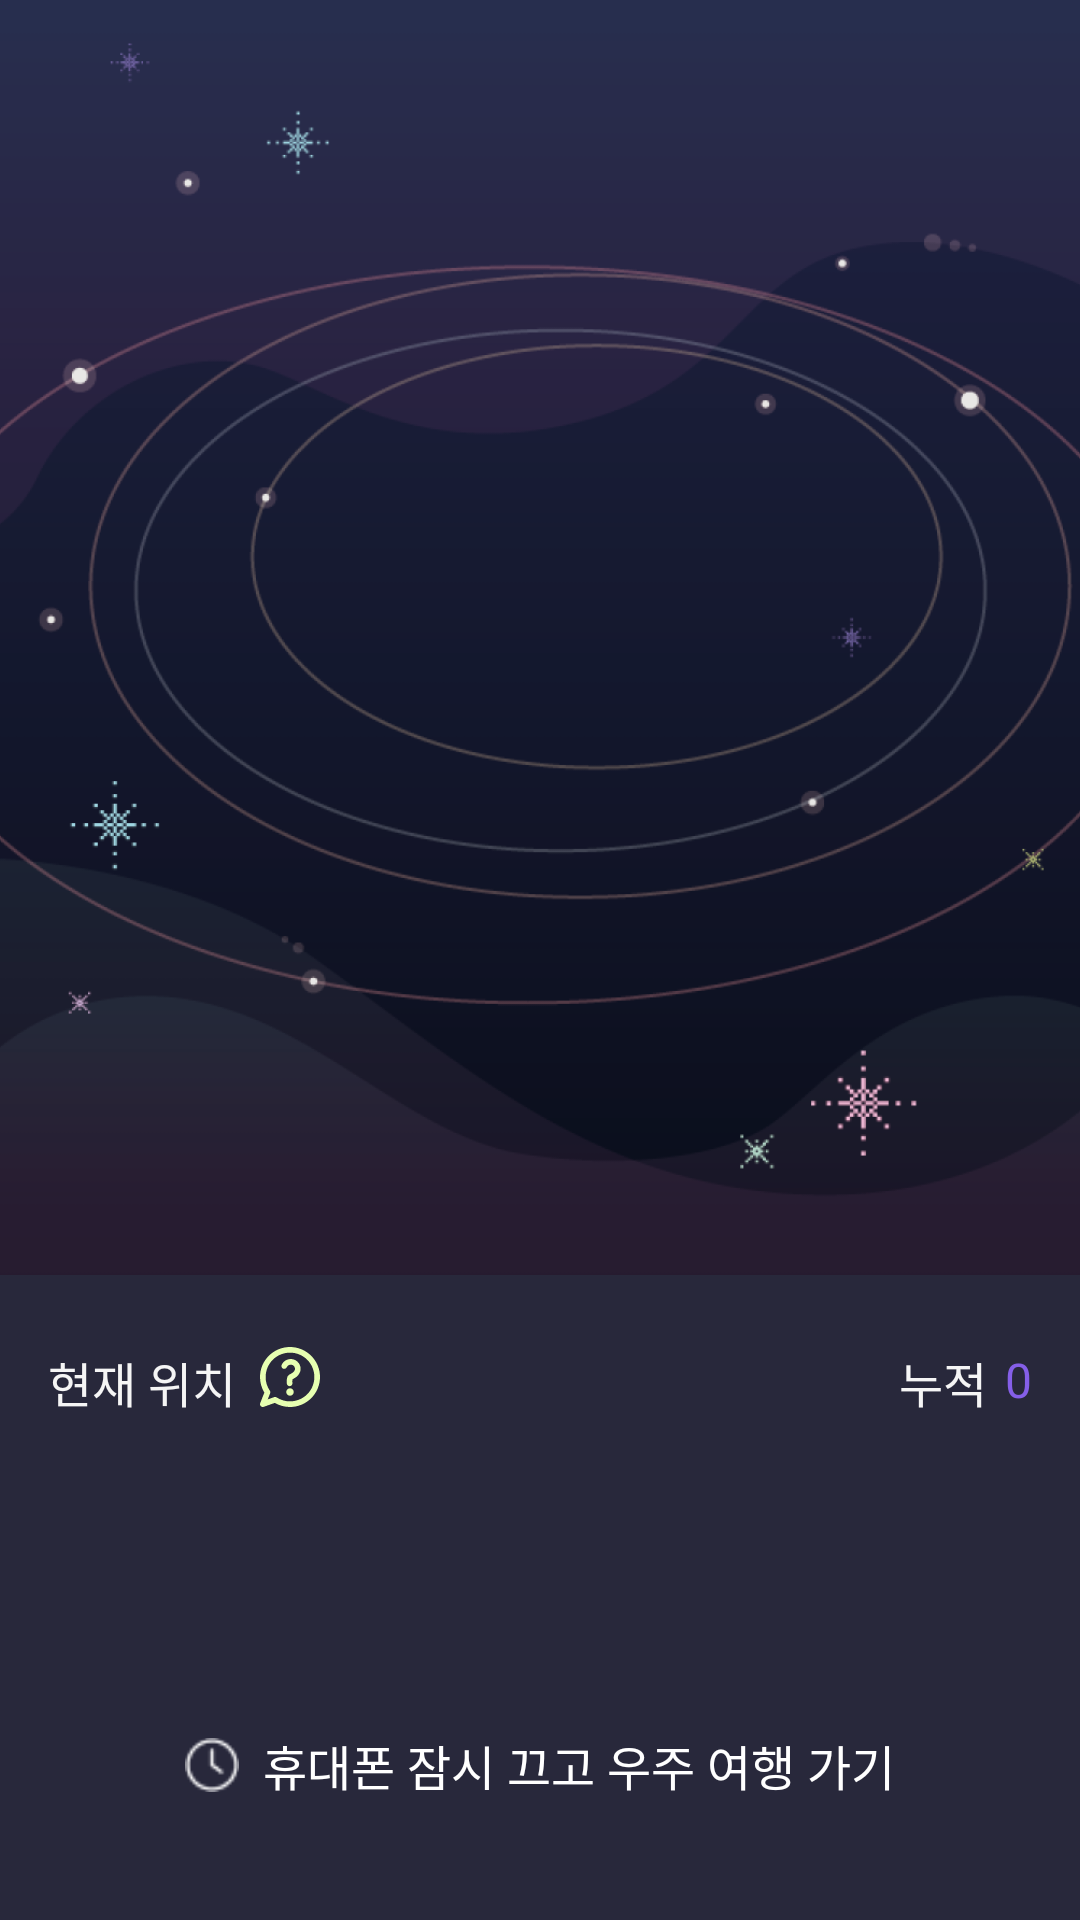

Named icons in this screenshot (1080px x 1920px) and their bounding boxes, (x1, y1, x2, y2):
planet introduce: (260, 1347, 320, 1407)
